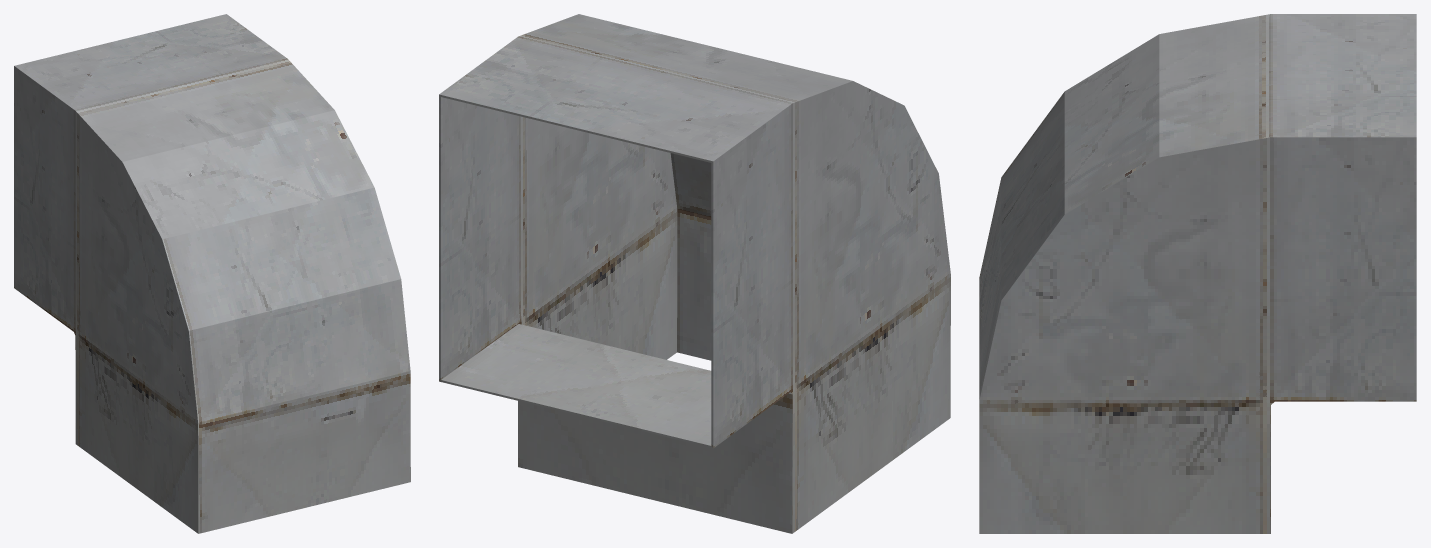
Rendered from vent_connector.glb.
3 renders of one model, left to right at view 1: azimuth 30°, elevation 25°; view 2: azimuth 150°, elevation 25°; view 3: azimuth 270°, elevation 25°, orthographic. The views are drawn at different scales.
Visible parts, largest first — view 1: connector; view 2: connector; view 3: connector.
Part boxes in pixels (box(x1,y1,x2,y2)): connector: box(14, 14, 410, 533); connector: box(439, 14, 950, 533); connector: box(979, 14, 1416, 533).
Size of the model in its own units: 1 by 1.5 by 1.5.
1 material, 1 textured.
